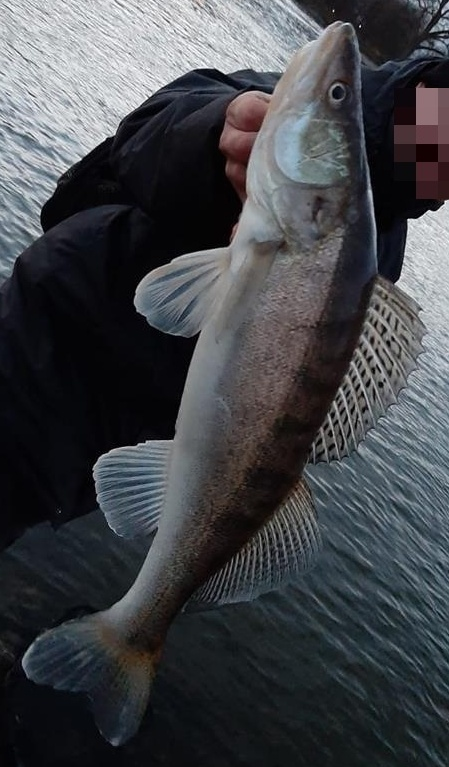Sander lucioperca: (20, 20, 429, 747)
